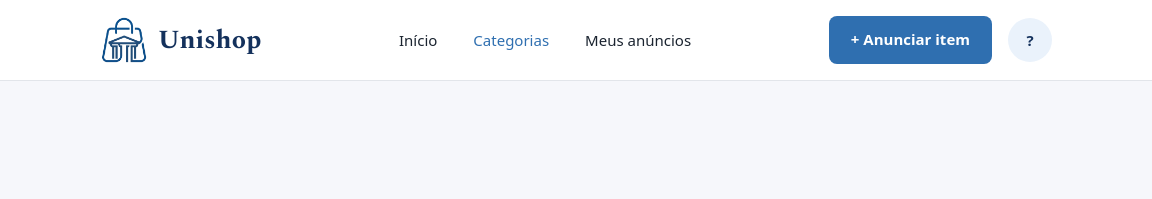
SiteHeader · muda sozinho com a sessão › "Sair" no menu devolve o cabeçalho de visitante, sem recarregar
Click the button named "Minha conta". click: (1030, 40)
box: [1008,18,1052,62]
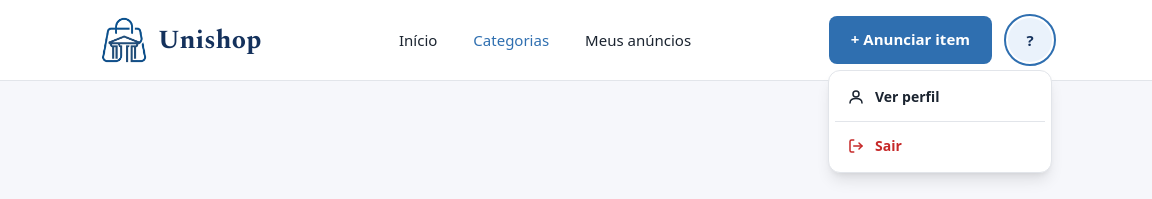
Click the button "Sair". click: (940, 146)
box: [835,126,1045,166]
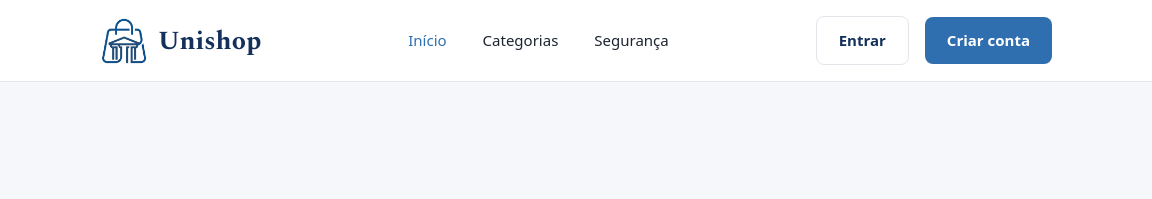
Expected: the link "Criar conta" is shown, [925,17,1052,64]
